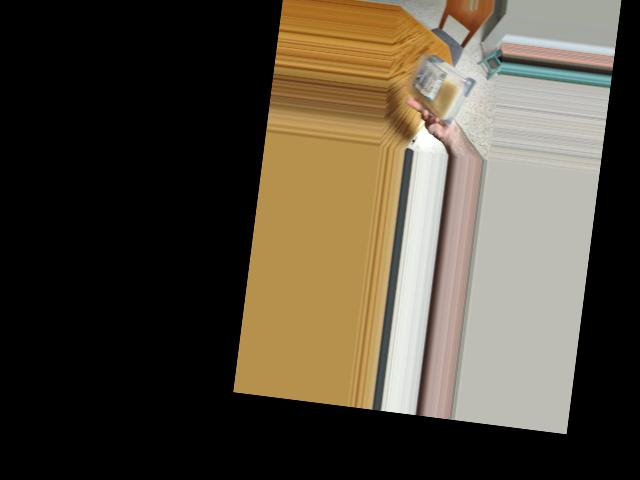cheese: (408, 52, 477, 111)
